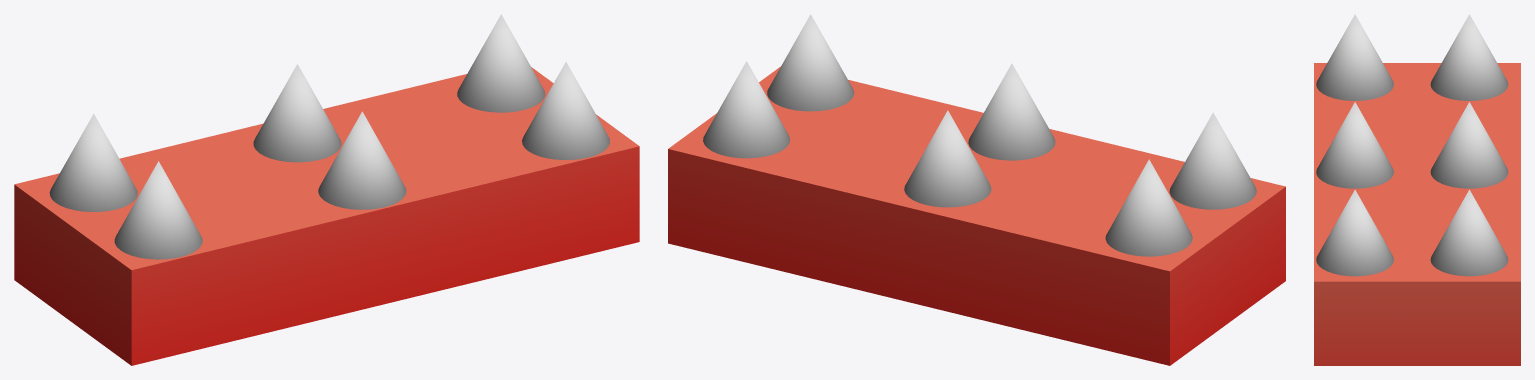
The model's file is Spike_box.fbx.
The picture shows the model from 3 angles, left to right: view 1: azimuth 30°, elevation 25°; view 2: azimuth 150°, elevation 25°; view 3: azimuth 270°, elevation 25°; orthographic projection. The views are drawn at different scales.
Visible parts, largest first — view 1: Cube; view 2: Cube; view 3: Cube.
Part boxes in pixels (x1,y1,x2,y2): Cube: (14, 14, 639, 365); Cube: (668, 14, 1285, 365); Cube: (1314, 14, 1520, 365).
Size of the model in its own units: 324 by 107 by 130.
